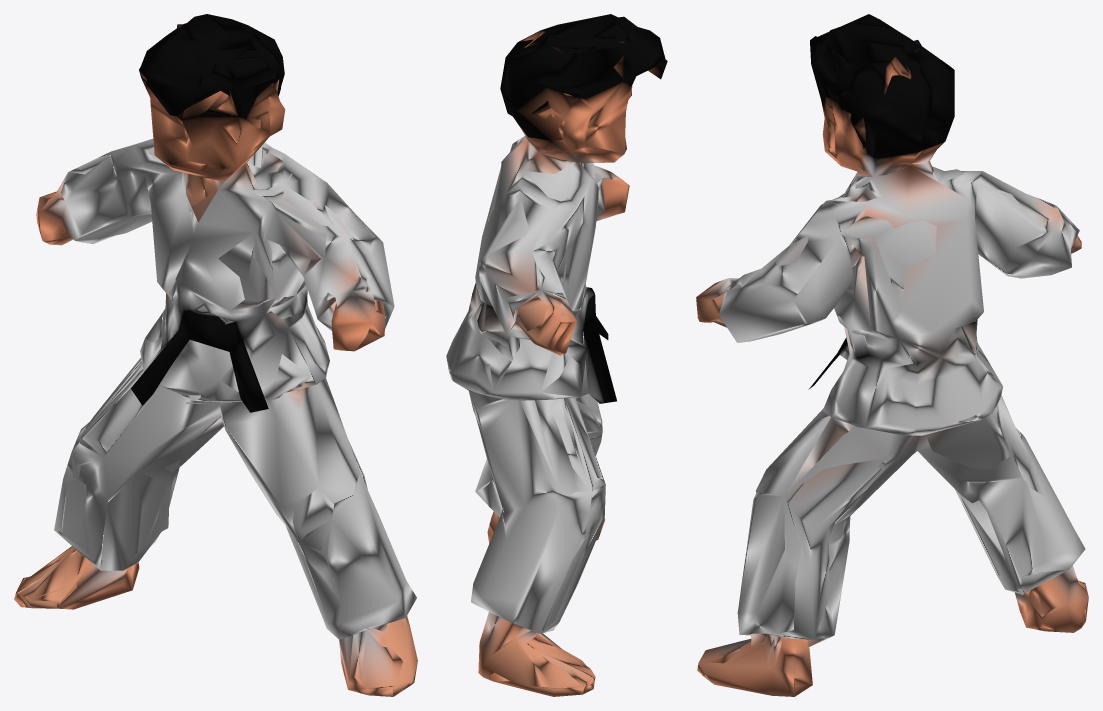
The model's file is gen3d-karate-fighter-lod0.glb.
3 views of the same model, side by side, from view 1: azimuth 30°, elevation 25°; view 2: azimuth 150°, elevation 25°; view 3: azimuth 270°, elevation 25° (orthographic). The views are drawn at different scales.
Visible parts, largest first — view 1: part_0; view 2: part_0; view 3: part_0.
Boxes of the visible parts, x1,y1,x2,y2 form: part_0: (14,14,417,696); part_0: (446,14,667,696); part_0: (696,14,1088,696).
Size of the model in its own units: 0.4165 by 0.9964 by 0.5945.
